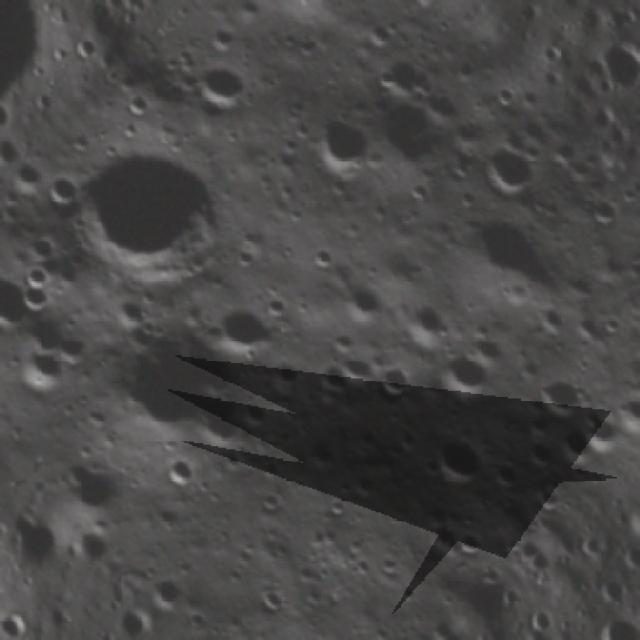crater: (70, 283, 282, 495), (45, 119, 252, 326), (448, 194, 558, 304), (359, 86, 456, 183), (295, 103, 383, 191), (414, 417, 500, 503), (463, 128, 548, 214), (44, 448, 128, 532), (201, 289, 282, 371), (184, 50, 262, 128), (425, 341, 498, 414), (7, 338, 76, 408), (528, 362, 590, 424), (370, 47, 432, 108), (391, 293, 451, 353), (46, 320, 102, 377), (0, 261, 38, 344), (139, 565, 195, 621), (575, 408, 631, 464), (462, 320, 516, 374), (550, 420, 604, 474), (336, 276, 389, 330), (102, 284, 155, 338), (264, 0, 358, 29), (152, 447, 202, 498), (368, 358, 417, 407), (600, 384, 640, 444), (33, 165, 82, 213), (354, 10, 401, 58), (309, 355, 356, 403), (298, 234, 344, 280), (487, 448, 533, 494), (583, 187, 628, 233), (266, 350, 311, 396), (296, 433, 341, 478), (232, 392, 277, 436), (11, 278, 52, 322), (528, 478, 570, 519), (345, 465, 386, 507), (542, 132, 582, 172), (257, 286, 297, 326), (521, 434, 561, 474), (338, 350, 376, 388), (10, 159, 48, 196), (226, 242, 263, 280), (179, 600, 216, 638), (119, 87, 156, 124), (324, 324, 361, 361), (0, 191, 18, 263), (253, 584, 289, 619), (19, 261, 53, 296), (451, 527, 483, 559), (402, 0, 446, 17), (0, 196, 11, 233), (634, 294, 640, 332)
